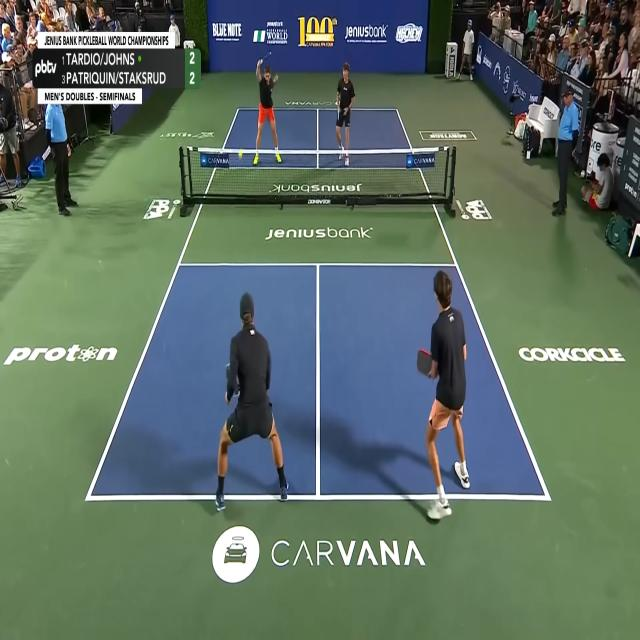ball: (238, 150, 243, 156)
